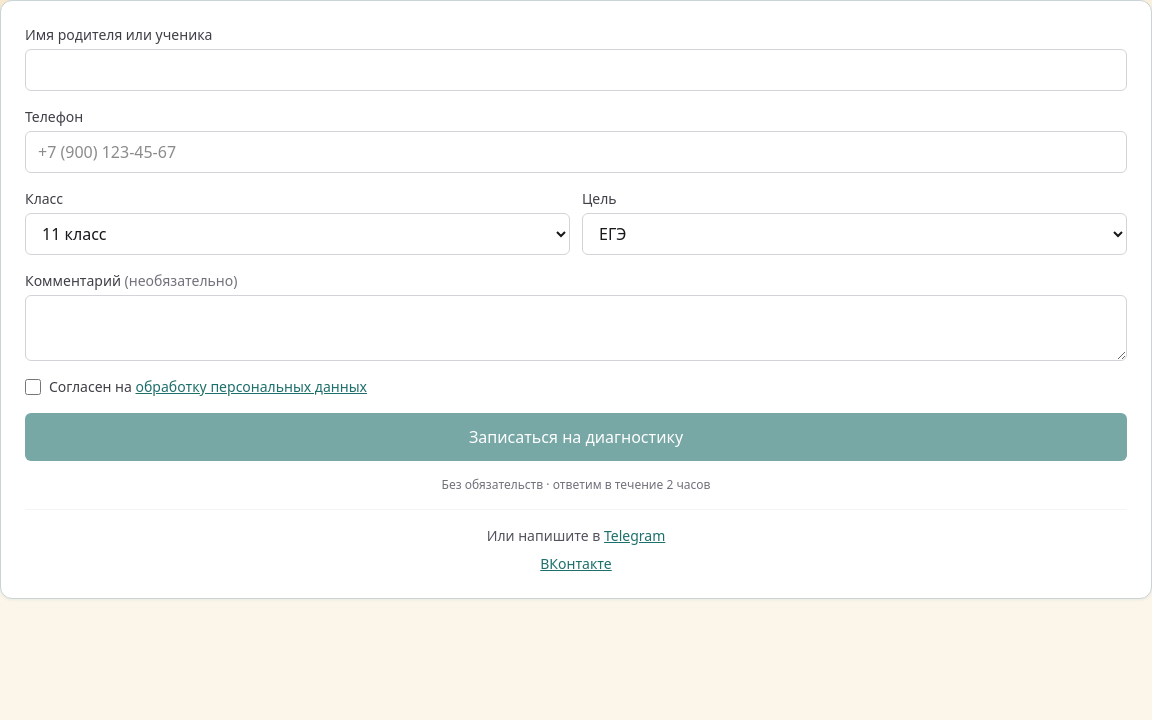
Scenario: LeadForm › disables submit until privacy checkbox is checked
This screenshot has width=1152, height=720.
Type "Анна" into the field labelled "Имя родителя или ученика" at (576, 70), box x1=25 y1=49 x2=1127 y2=91
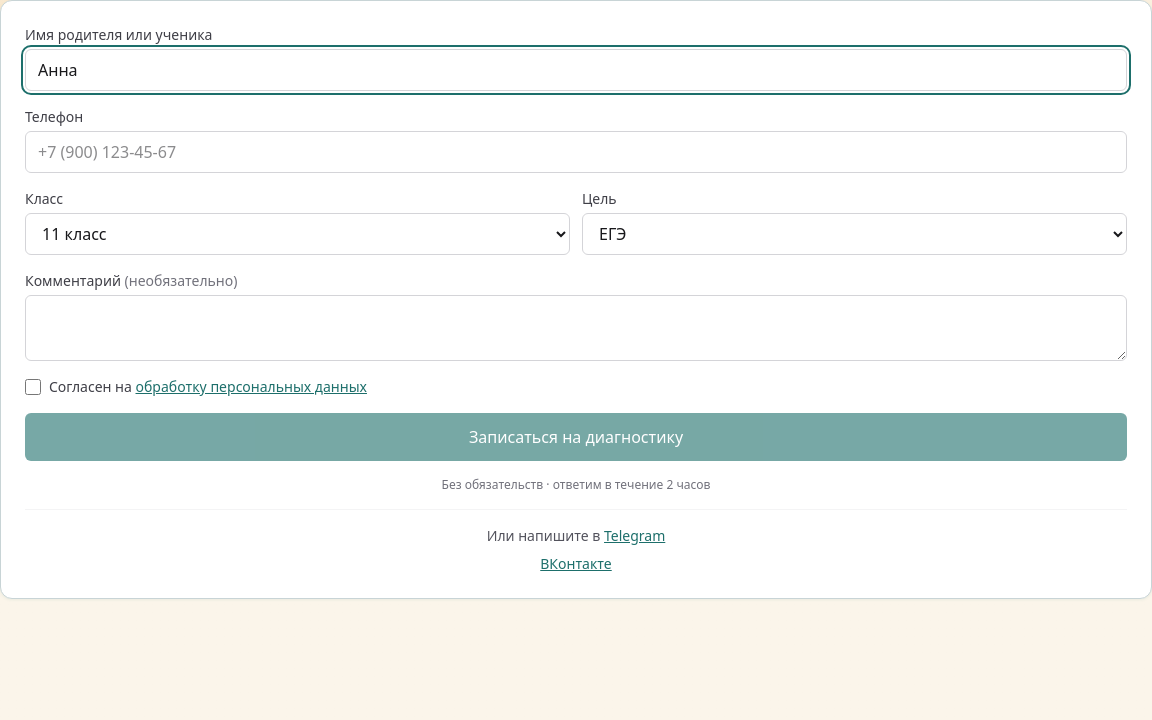
Type "+79001234567" into the field labelled "Телефон" at (576, 152), box x1=25 y1=131 x2=1127 y2=173
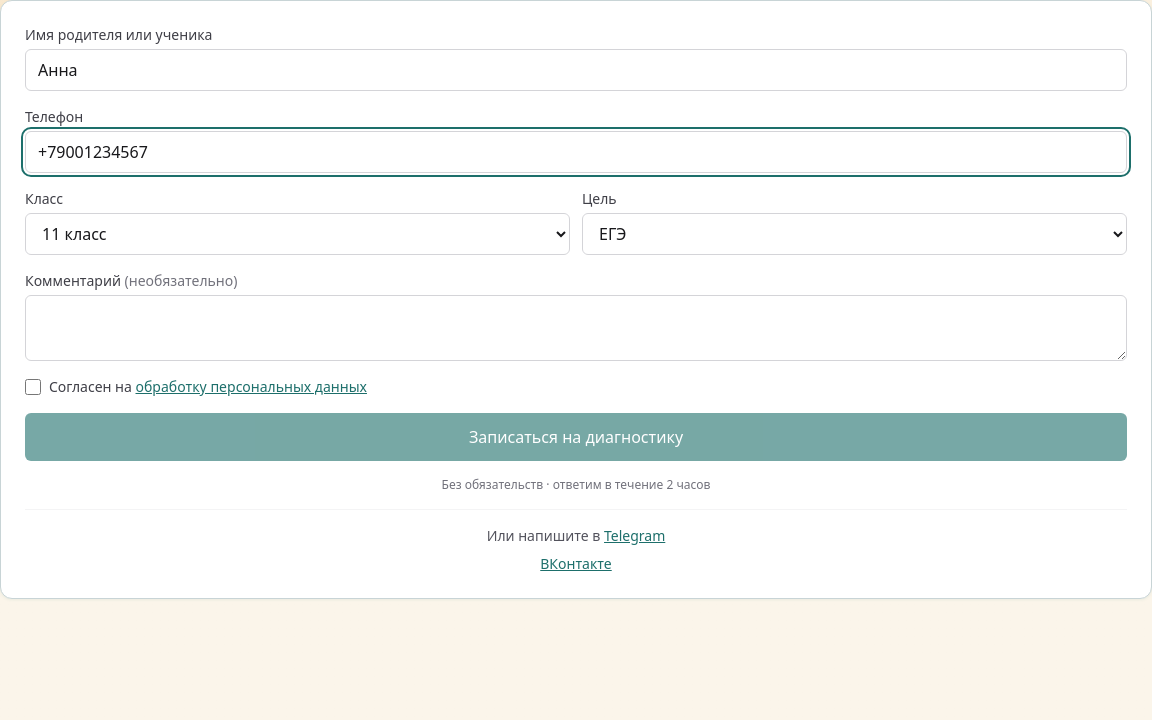
Check: the button "Записаться на диагностику" is disabled, box x1=25 y1=413 x2=1127 y2=461
Click the checkbox at (33, 387), box x1=25 y1=379 x2=41 y2=395
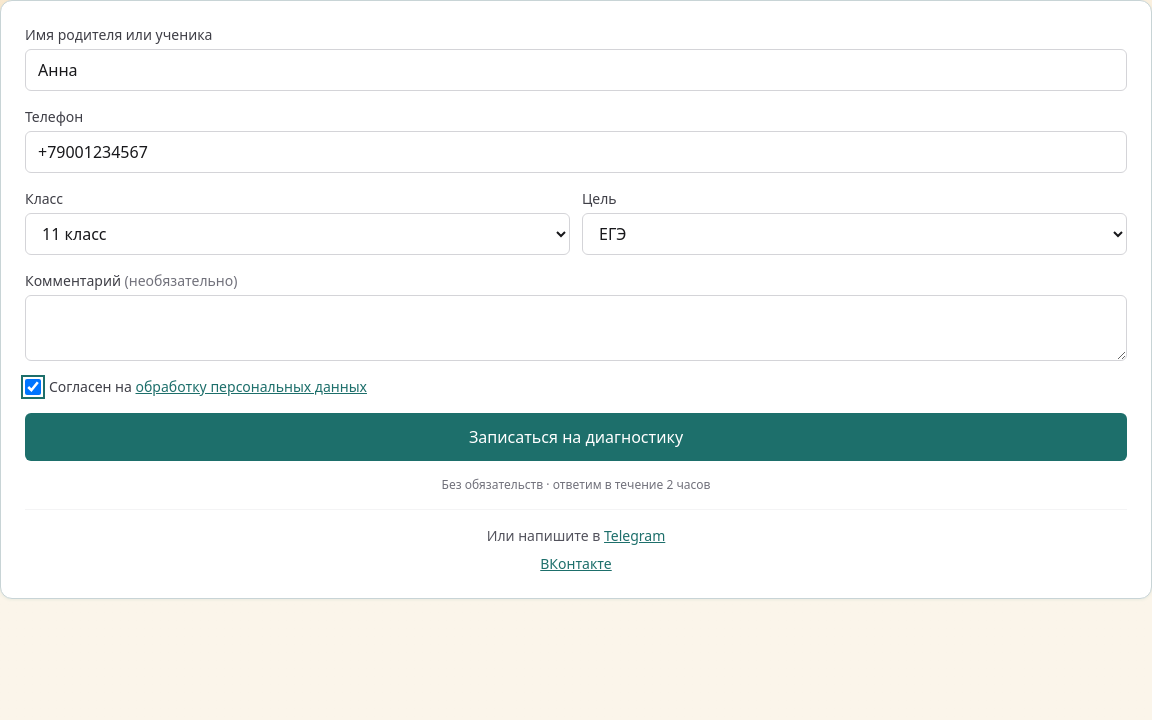
Check: the button "Записаться на диагностику" is enabled, box x1=25 y1=413 x2=1127 y2=461
